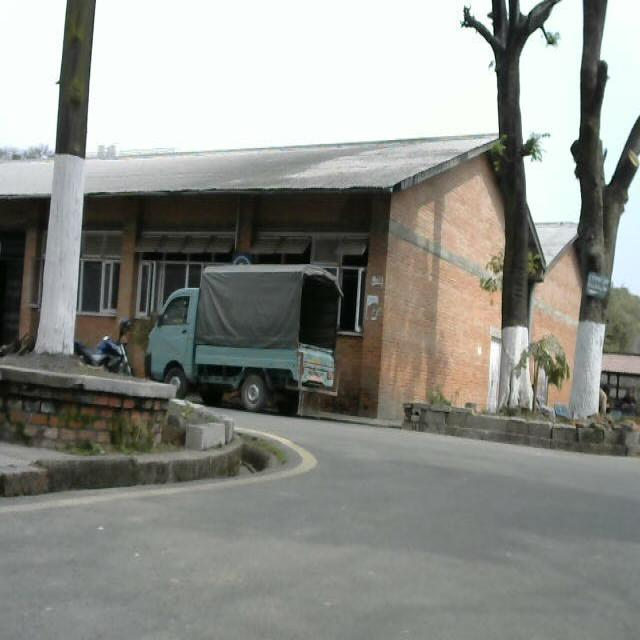Bike: (76, 318, 150, 365)
Buildings: (86, 130, 497, 255)
Road: (36, 417, 640, 640)
Vehicle: (154, 255, 346, 403)
trees: (460, 4, 562, 411), (570, 2, 634, 412), (43, 0, 106, 403)
